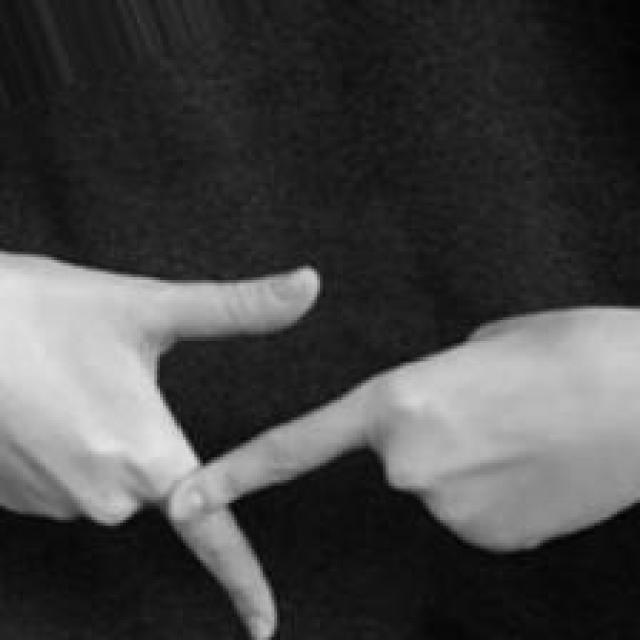F: (1, 260, 640, 640)
